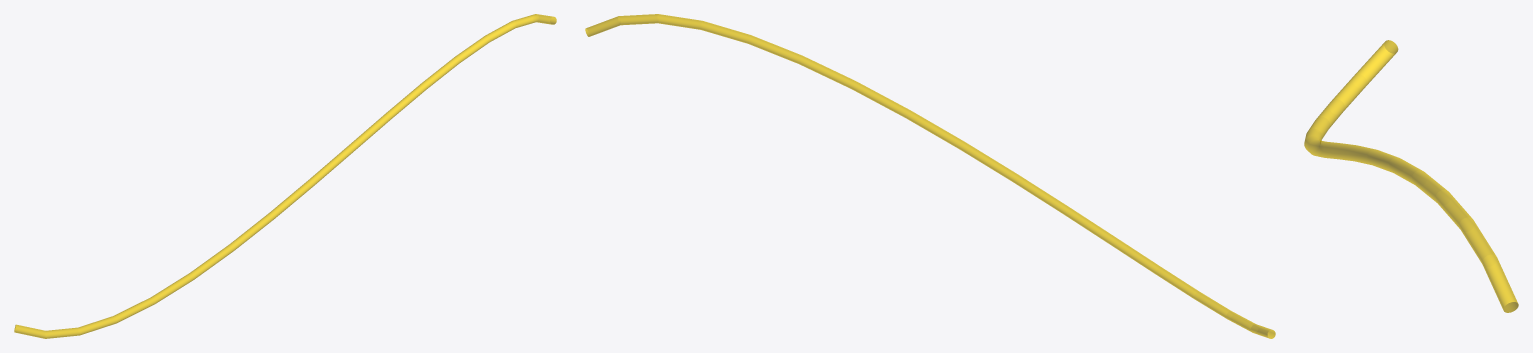
The model's file is Event_27938768_track_41.fbx.
The picture shows the model from 3 angles, left to right: view 1: azimuth 30°, elevation 25°; view 2: azimuth 150°, elevation 25°; view 3: azimuth 270°, elevation 25°; orthographic projection. The views are drawn at different scales.
Parts seen in each view (by area): view 1: Model; view 2: Model; view 3: Model.
Boxes of the visible parts, x1=… form: Model: x1=14, y1=14, x2=556, y2=338; Model: x1=585, y1=14, x2=1275, y2=338; Model: x1=1304, y1=40, x2=1518, y2=312.
Bounding box in the file's own units: 3.24 × 0.9595 × 0.526.
